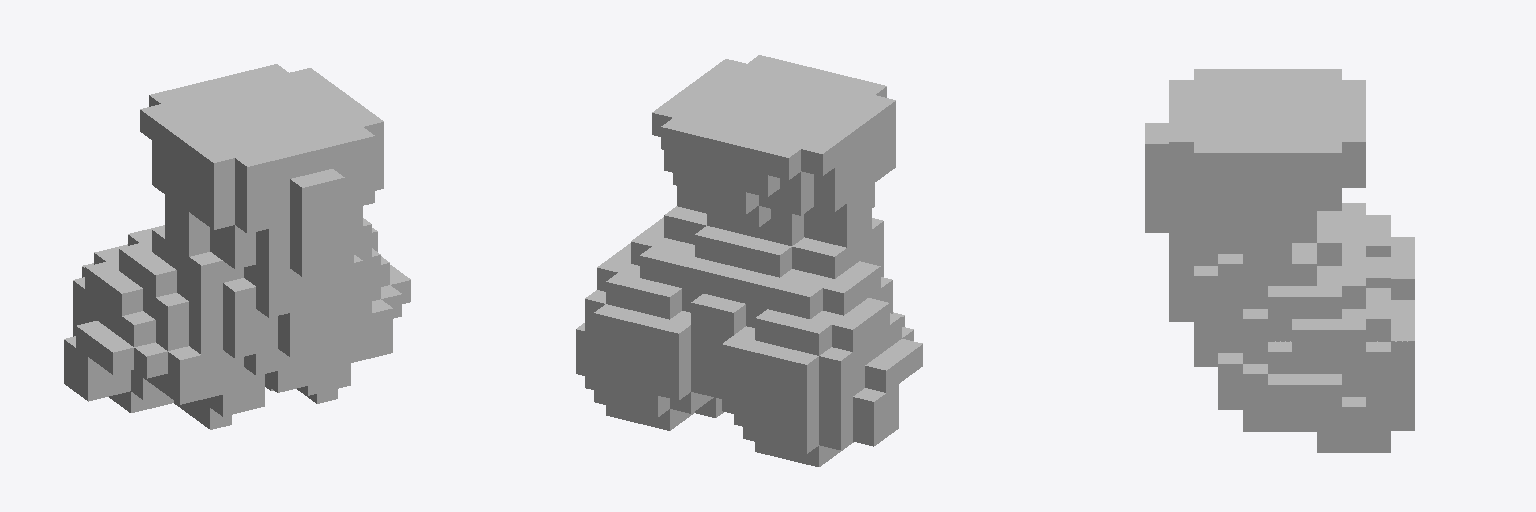
File: LowerBody_04.obj
The picture shows the model from 3 angles: view 1: azimuth 30°, elevation 25°; view 2: azimuth 150°, elevation 25°; view 3: azimuth 270°, elevation 25°; orthographic projection.
Parts seen in each view (by area): view 1: LowerBody_04; view 2: LowerBody_04; view 3: LowerBody_04.
Part boxes in pixels (x1,y1,x2,y2): LowerBody_04: (64, 64, 410, 429); LowerBody_04: (576, 55, 922, 466); LowerBody_04: (1145, 69, 1414, 452).
Size of the model in its own units: 1.4 by 1.3 by 1.1.